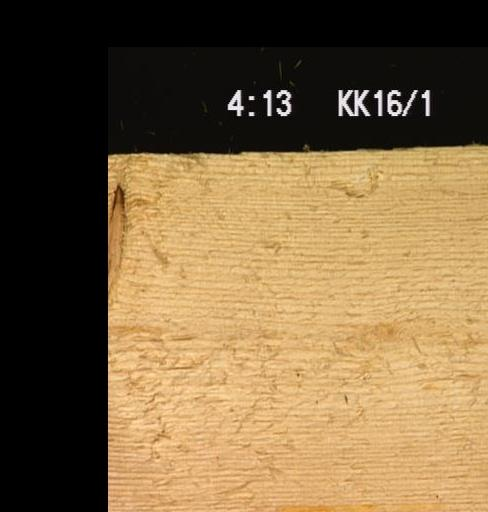split: (155, 364, 193, 370)
